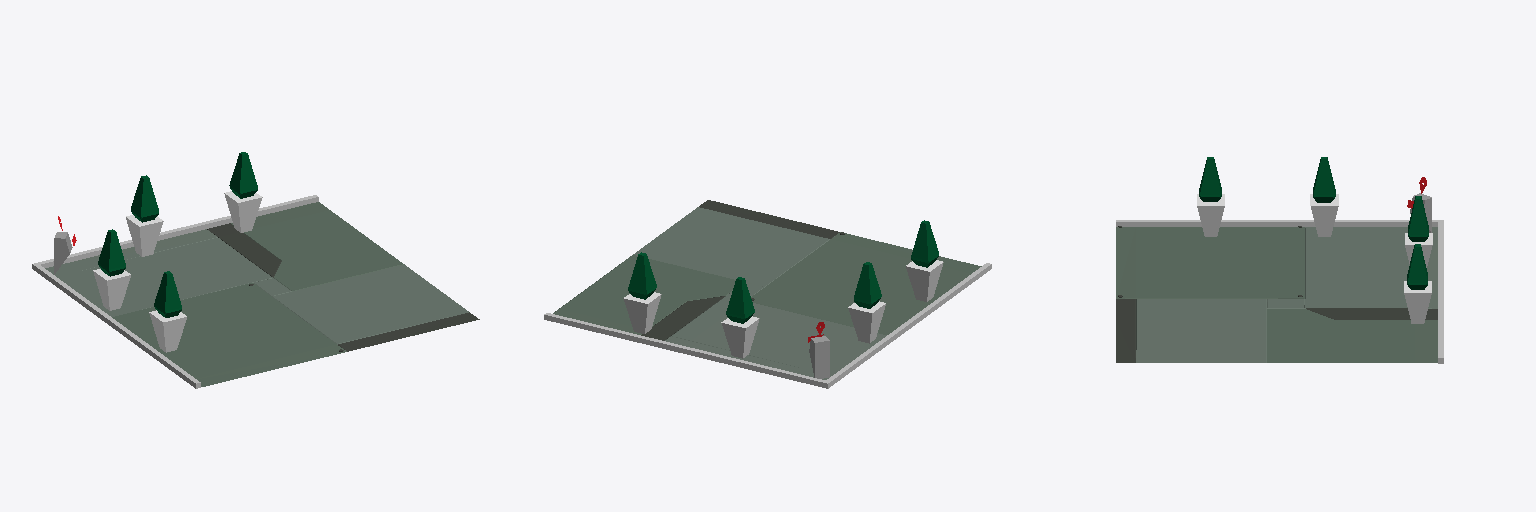
The picture shows the model from 3 angles: view 1: azimuth 30°, elevation 25°; view 2: azimuth 150°, elevation 25°; view 3: azimuth 270°, elevation 25°; orthographic projection.
Visible parts, largest first — view 1: Scifi_Panel_04_Plaza014_group4.025, Cube.1038_Cube.1162, base_singlePot01.023_base_singlePot01.011, base_singlePot01.022_base_singlePot01.010, base_singlePot01.020_base_singlePot01.008, base_singlePot01.021_base_singlePot01.009, panel.006_panel.010; view 2: Scifi_Panel_04_Plaza014_group4.025, Cube.1038_Cube.1162, base_singlePot01.022_base_singlePot01.010, base_singlePot01.023_base_singlePot01.011, base_singlePot01.021_base_singlePot01.009, base_singlePot01.020_base_singlePot01.008, panel.006_panel.010; view 3: Scifi_Panel_04_Plaza014_group4.025, Cube.1038_Cube.1162, base_singlePot01.020_base_singlePot01.008, base_singlePot01.021_base_singlePot01.009, base_singlePot01.022_base_singlePot01.010, base_singlePot01.023_base_singlePot01.011.
Boxes of the visible parts, box(x1,y1,x2,y2) form: Scifi_Panel_04_Plaza014_group4.025: box(45, 202, 479, 386); Cube.1038_Cube.1162: box(32, 195, 318, 388); base_singlePot01.023_base_singlePot01.011: box(126, 175, 163, 256); base_singlePot01.022_base_singlePot01.010: box(224, 152, 262, 232); base_singlePot01.020_base_singlePot01.008: box(93, 229, 130, 310); base_singlePot01.021_base_singlePot01.009: box(149, 271, 186, 352); panel.006_panel.010: box(54, 216, 76, 274); Scifi_Panel_04_Plaza014_group4.025: box(553, 200, 981, 379); Cube.1038_Cube.1162: box(544, 263, 991, 388); base_singlePot01.022_base_singlePot01.010: box(623, 252, 661, 333); base_singlePot01.023_base_singlePot01.011: box(721, 277, 759, 358); base_singlePot01.021_base_singlePot01.009: box(906, 220, 943, 301); base_singlePot01.020_base_singlePot01.008: box(848, 262, 885, 343); panel.006_panel.010: box(808, 322, 829, 378); Scifi_Panel_04_Plaza014_group4.025: box(1116, 226, 1437, 362); Cube.1038_Cube.1162: box(1116, 220, 1443, 363); base_singlePot01.020_base_singlePot01.008: box(1310, 157, 1338, 236); base_singlePot01.021_base_singlePot01.009: box(1197, 157, 1224, 236); base_singlePot01.022_base_singlePot01.010: box(1404, 244, 1431, 323); base_singlePot01.023_base_singlePot01.011: box(1405, 196, 1432, 267).
Size of the model in its own units: 10 by 2.59 by 10.